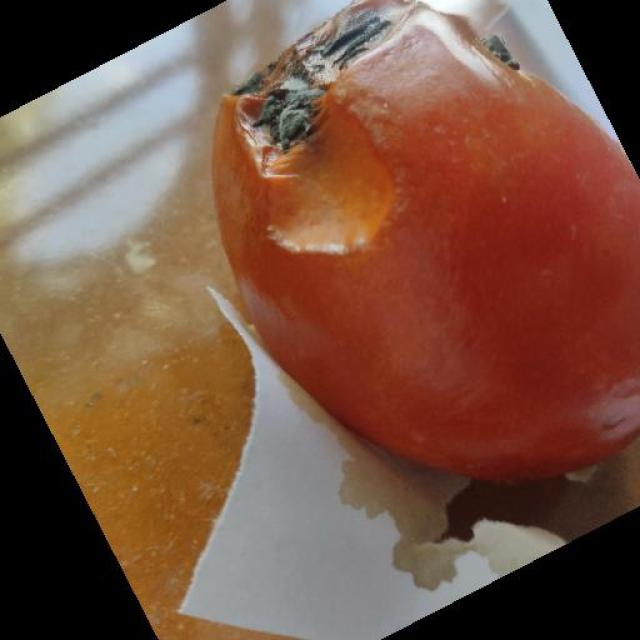Stale_tomato: (219, 8, 640, 482)
